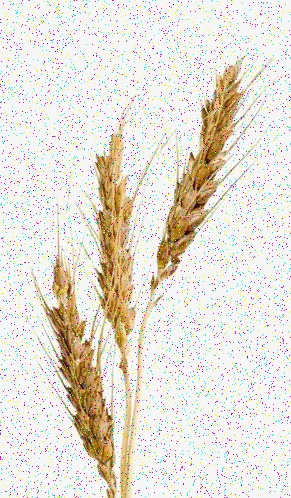wheat: (146, 38, 283, 331), (14, 242, 120, 488), (91, 111, 137, 377)
